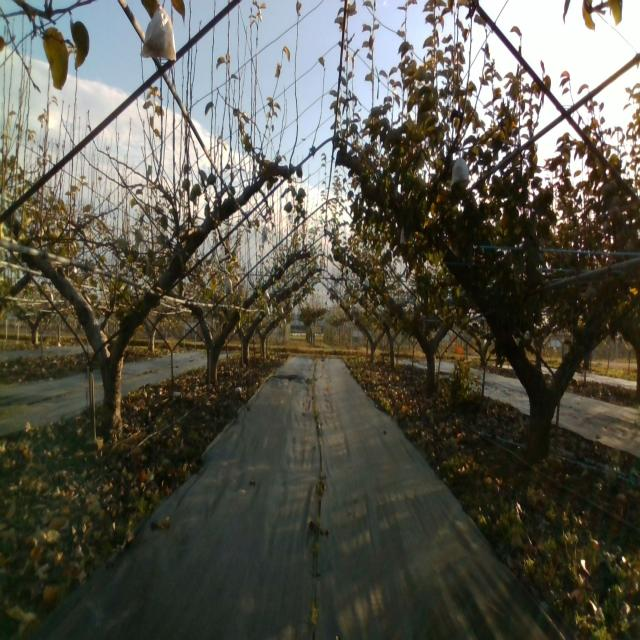pearbags: (140, 5, 177, 61), (450, 158, 470, 188)
